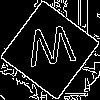W: (25, 25, 78, 77)
